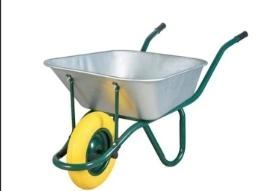BROUETTE: (20, 13, 248, 191)
